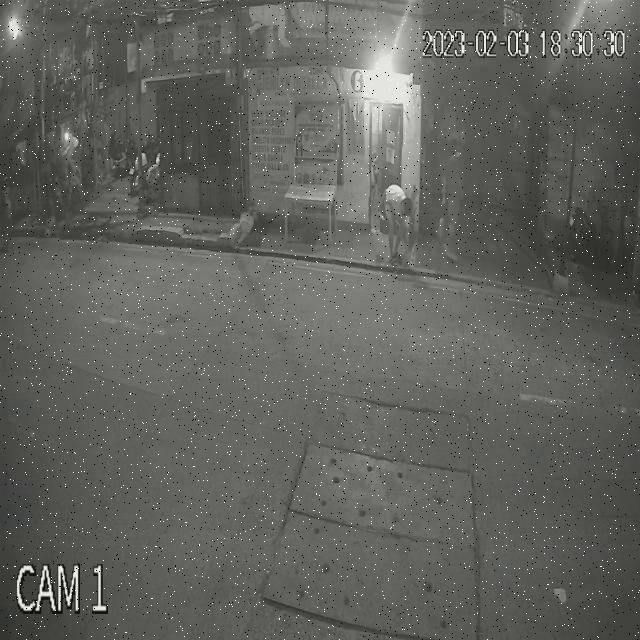human: (376, 183, 413, 271)
trash: (398, 240, 412, 269)
